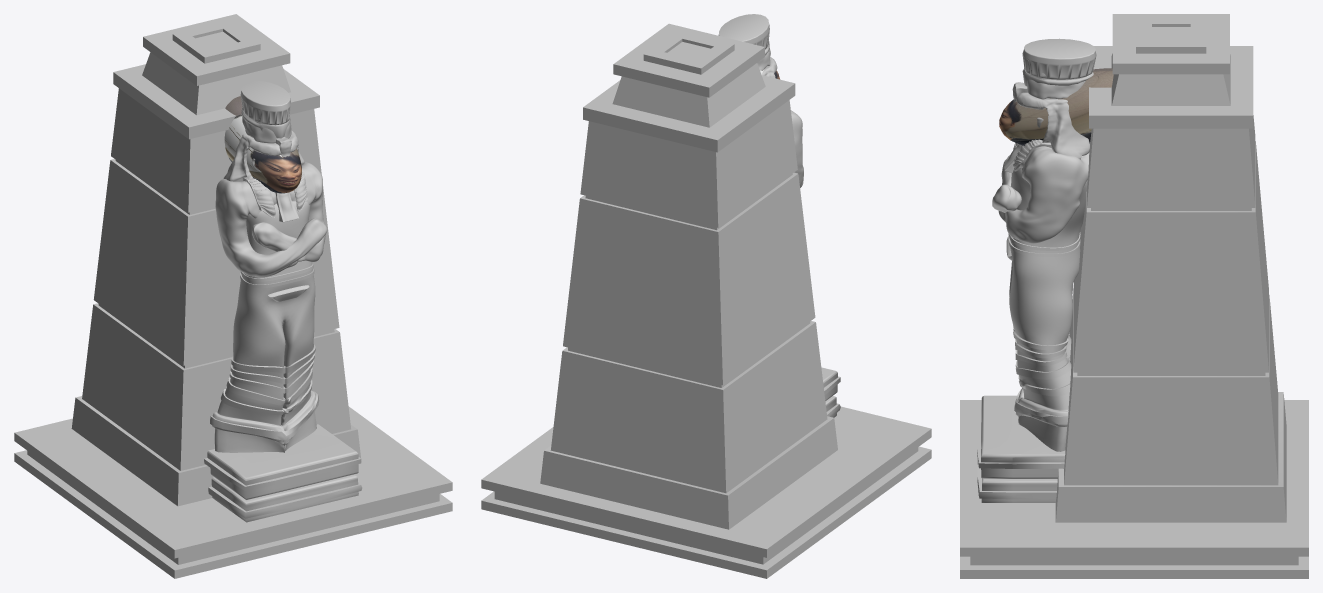
The model's file is statue.fbx.
The picture shows the model from 3 angles, left to right: view 1: azimuth 30°, elevation 25°; view 2: azimuth 150°, elevation 25°; view 3: azimuth 270°, elevation 25°; orthographic projection. The views are drawn at different scales.
Visible parts, largest first — view 1: pCube2588, sculpt4, floor, Sphere; view 2: pCube2588, floor, sculpt4; view 3: pCube2588, sculpt4, floor, Sphere.
Part boxes in pixels (x1,y1,x2,y2): pCube2588: (71,14,361,506); sculpt4: (204,81,362,522); floor: (14,406,452,578); Sphere: (224,96,301,193); pCube2588: (540,23,837,529); floor: (481,406,931,578); sculpt4: (718,14,840,417); pCube2588: (1055,14,1286,522); sculpt4: (977,38,1096,502); floor: (960,400,1308,578); Sphere: (999,68,1113,145).
Size of the model in its own units: 2.74 by 4.1 by 2.74.
